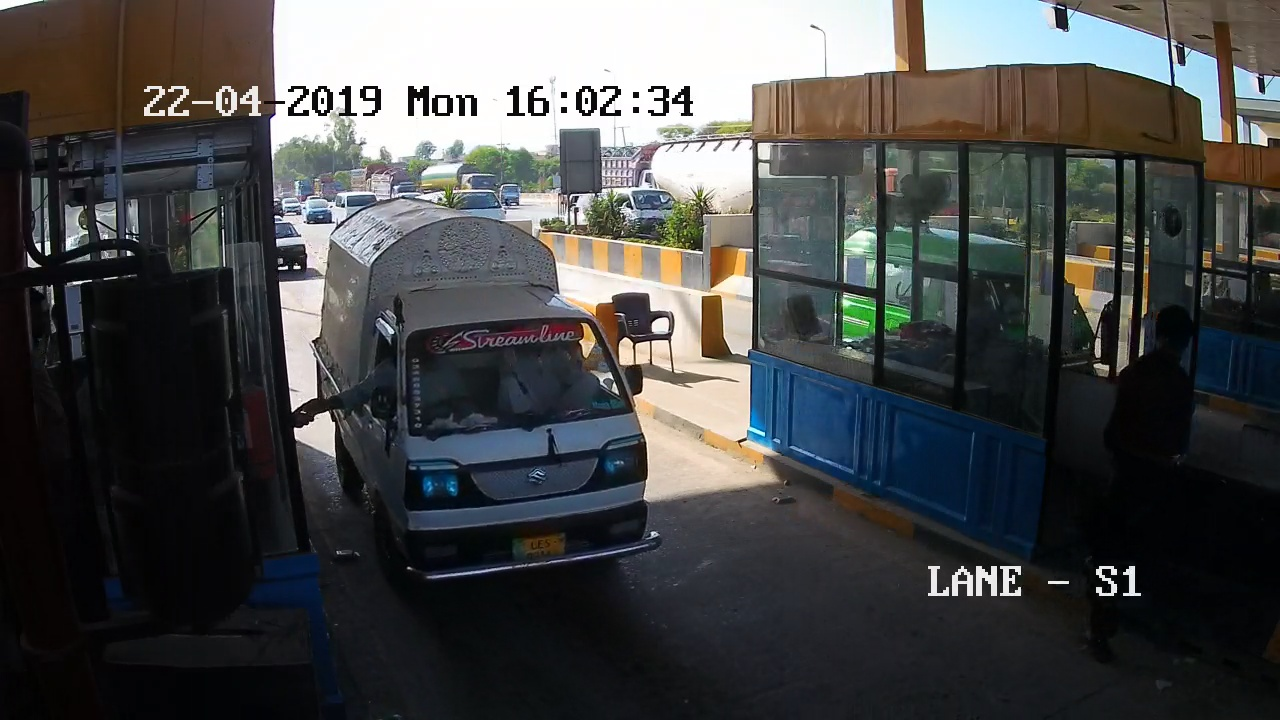car: (316, 220, 677, 620)
